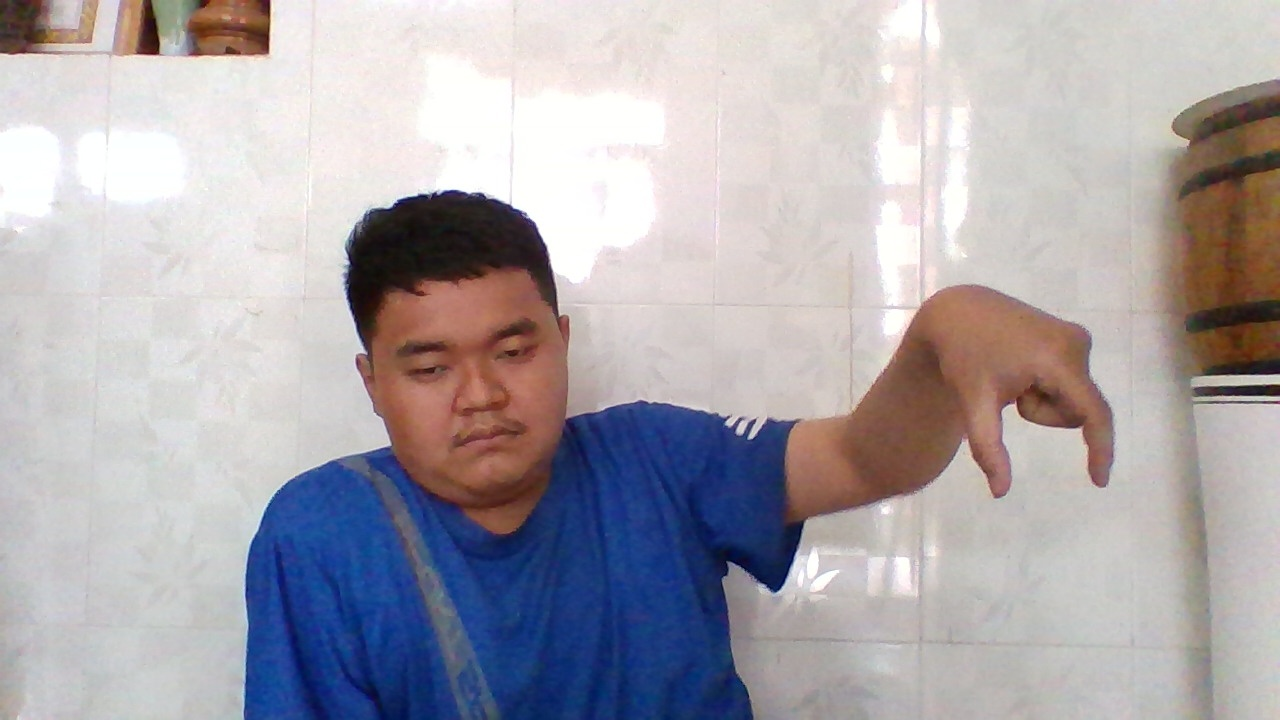Q: (923, 283, 1119, 507)
